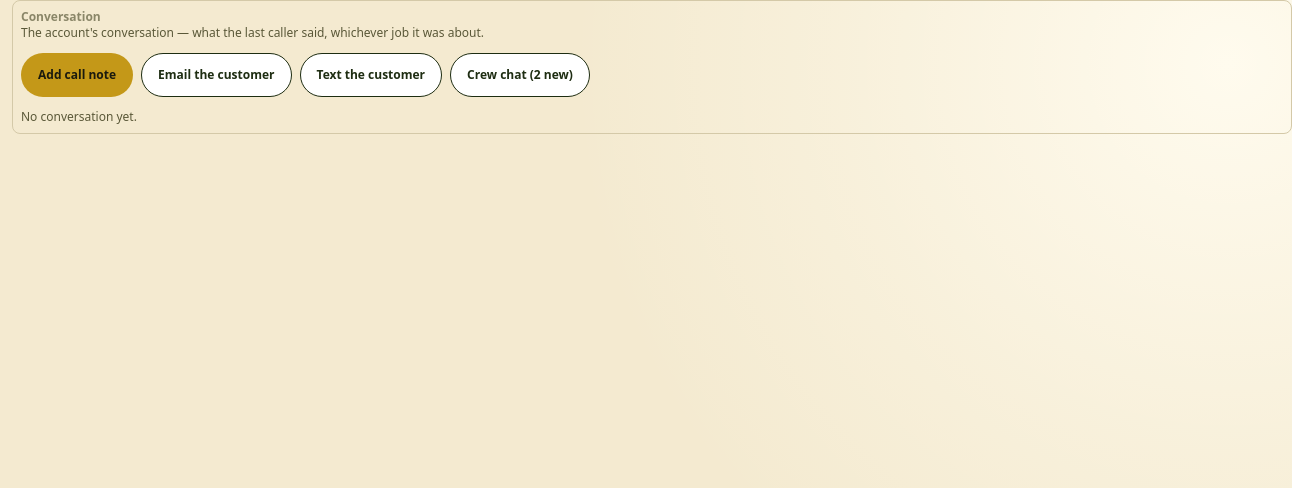
the job drawer's view › 'Crew chat' opens this job's crew thread, with how many messages are new
Click the button "Crew chat (2 new)" at (520, 75), box [450,53,590,97]
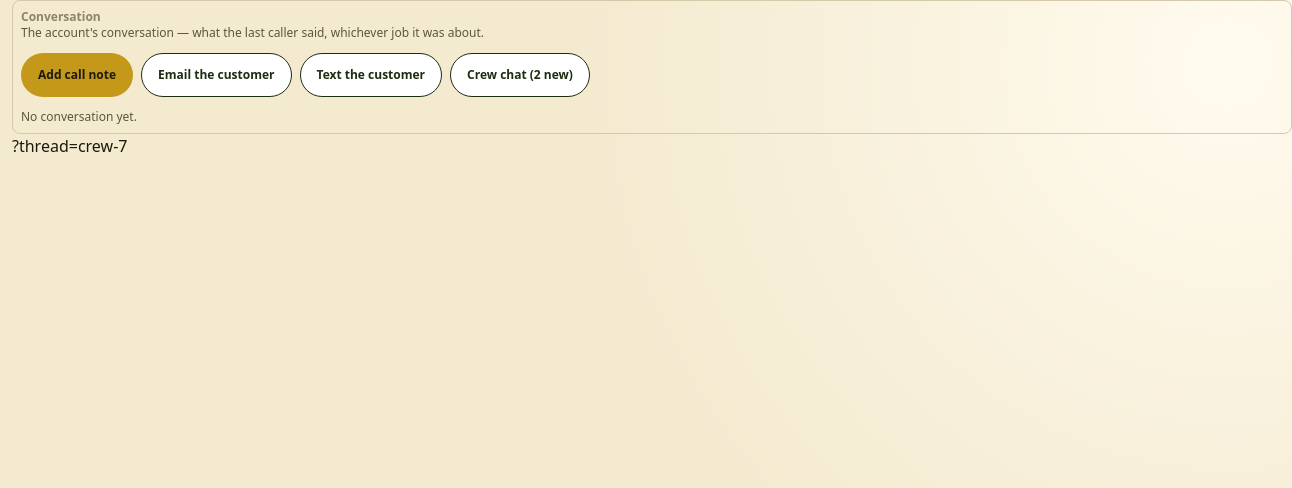
Now the text with test id "location" reads "?thread=crew-7", box [12,135,128,157]
